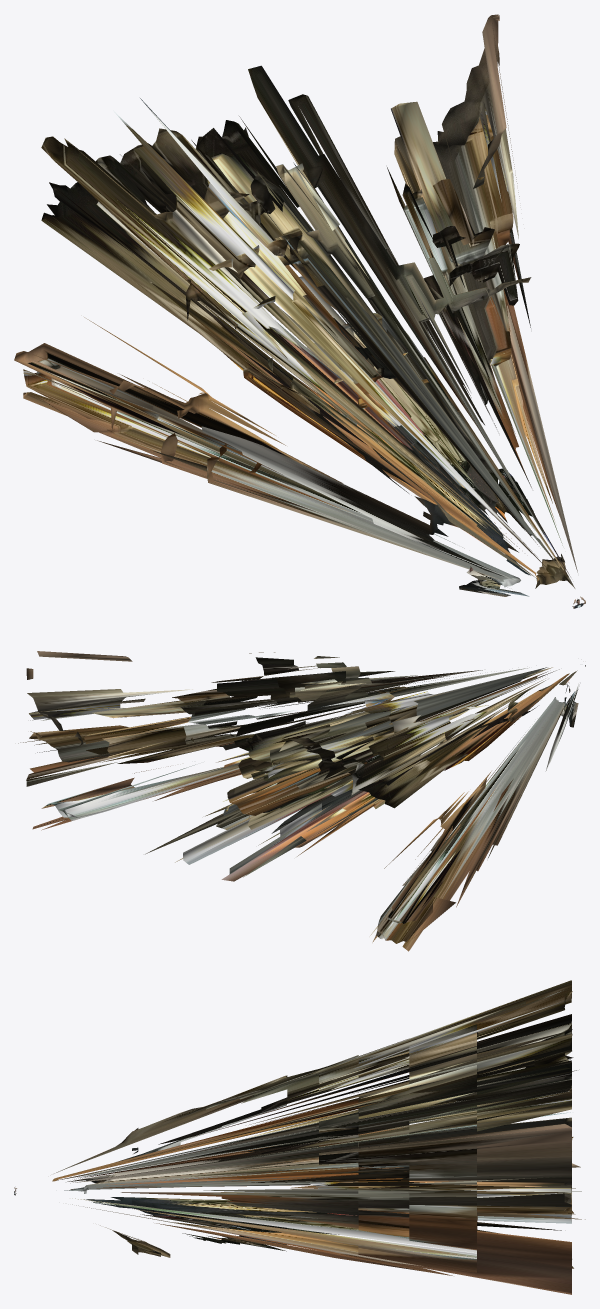
Rendered from sample.glb.
3 renders of one model, top to bottom at view 1: azimuth 30°, elevation 25°; view 2: azimuth 150°, elevation 25°; view 3: azimuth 270°, elevation 25°, orthographic. The views are drawn at different scales.
Visible parts, largest first — view 1: IMG_0193_mesh; view 2: IMG_0193_mesh; view 3: IMG_0193_mesh.
Part boxes in pixels (x1=…): IMG_0193_mesh: x1=14, y1=14, x2=585, y2=608; IMG_0193_mesh: x1=18, y1=651, x2=585, y2=951; IMG_0193_mesh: x1=14, y1=980, x2=585, y2=1294.
Size of the model in its own units: 36.83 by 21.41 by 51.47.
Materials: 1 (1 with a texture image).
